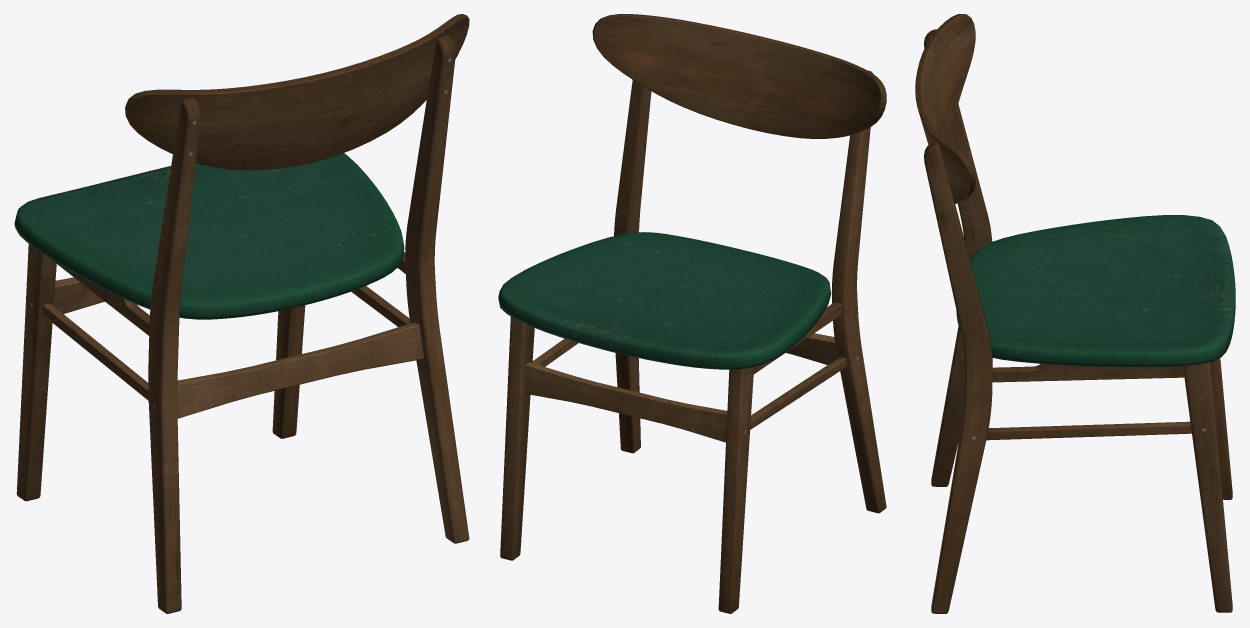
Rendered from chair_1.glb.
3 renders of one model, left to right at view 1: azimuth 30°, elevation 25°; view 2: azimuth 150°, elevation 25°; view 3: azimuth 270°, elevation 25°, orthographic. The views are drawn at different scales.
Parts seen in each view (by area): view 1: Chair_Chair_0; view 2: Chair_Chair_0; view 3: Chair_Chair_0.
Boxes of the visible parts, x1,y1,x2,y2 form: Chair_Chair_0: (14,14,469,613); Chair_Chair_0: (498,14,886,613); Chair_Chair_0: (915,14,1235,613).
Bounding box in the file's own units: 0.5229 × 0.7577 × 0.4671.
1 material, 1 textured.
